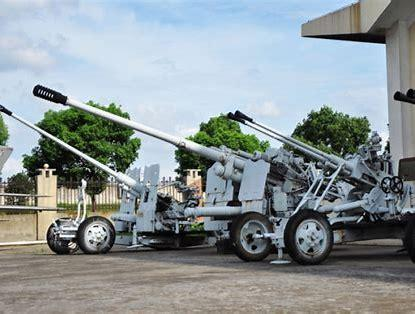MIL_SPG: (33, 85, 310, 261), (0, 105, 194, 254), (228, 111, 415, 264)
